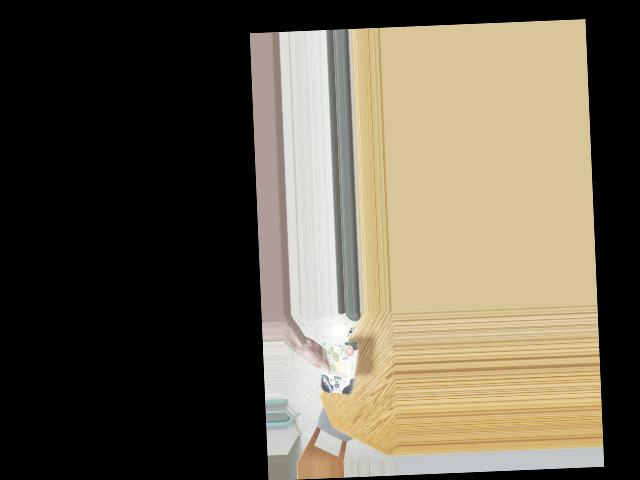cheese: (313, 340, 359, 395)
